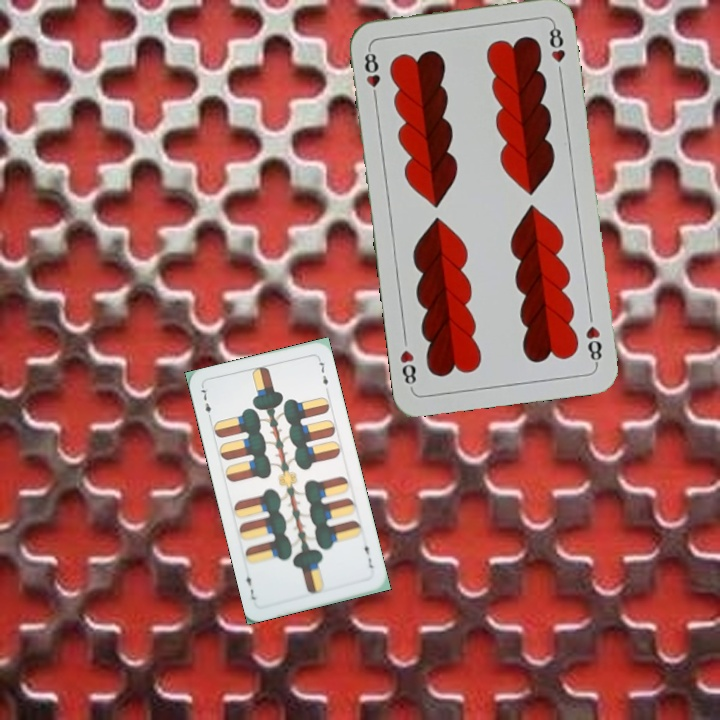E7: (197, 383, 214, 423), (360, 537, 376, 571)
H8: (360, 44, 383, 103), (581, 322, 604, 368)
